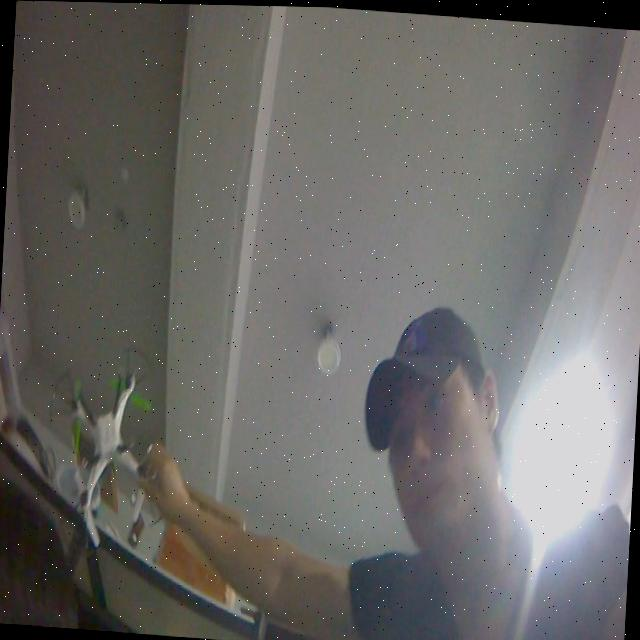drone: (40, 335, 182, 556)
